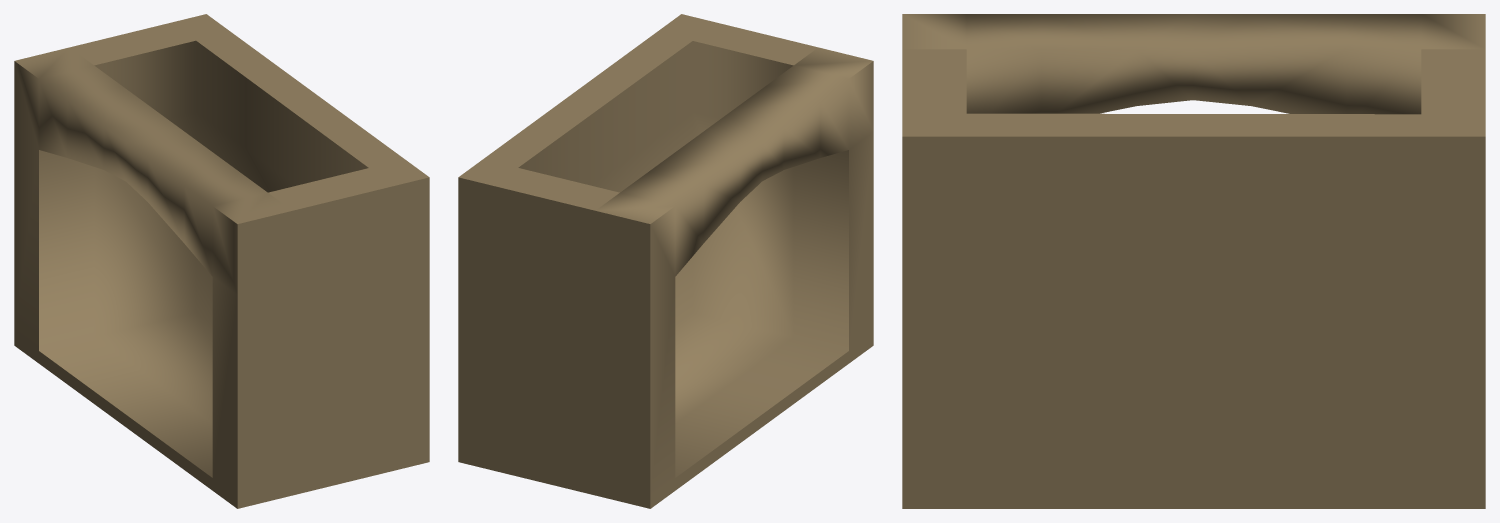
The model's file is Hearth_02.fbx.
3 views of the same model, side by side, from view 1: azimuth 30°, elevation 25°; view 2: azimuth 150°, elevation 25°; view 3: azimuth 270°, elevation 25° (orthographic). The views are drawn at different scales.
Parts seen in each view (by area): view 1: Hearth_02; view 2: Hearth_02; view 3: Hearth_02.
Boxes of the visible parts, x1=… form: Hearth_02: x1=14, y1=14, x2=429, y2=508; Hearth_02: x1=458, y1=14, x2=873, y2=508; Hearth_02: x1=902, y1=14, x2=1485, y2=508.
Bounding box in the file's own units: 134 × 189 × 269.
